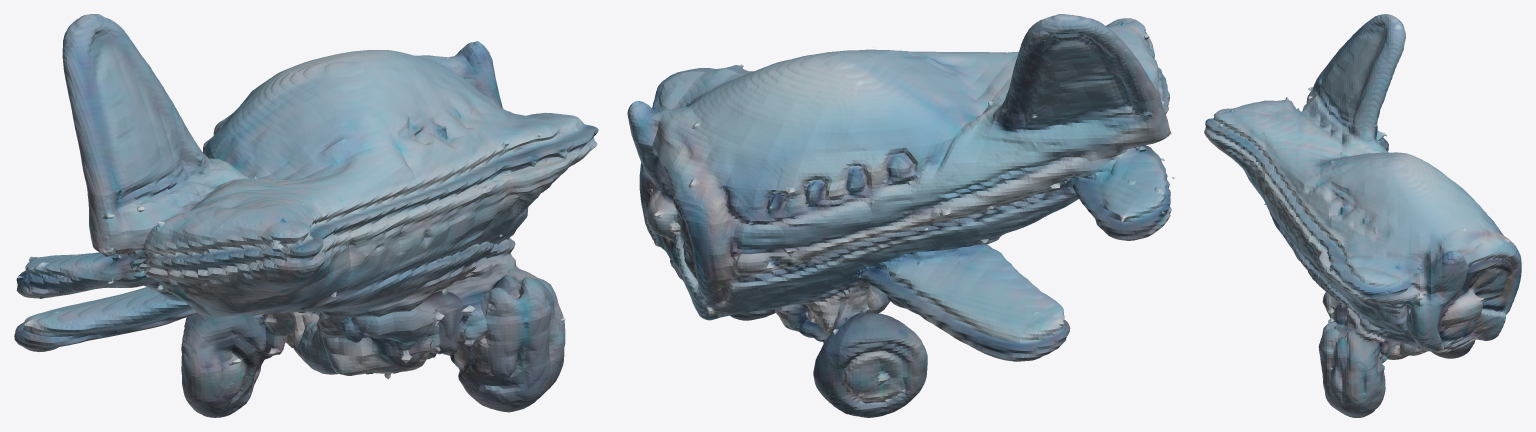
3 views of the same model, side by side, from view 1: azimuth 30°, elevation 25°; view 2: azimuth 150°, elevation 25°; view 3: azimuth 270°, elevation 25° (orthographic). The views are drawn at different scales.
Parts seen in each view (by area): view 1: world; view 2: world; view 3: world.
Part boxes in pixels (x1,y1,x2,y2): world: (14,14,598,417); world: (627,14,1174,417); world: (1204,14,1521,417).
Bounding box in the file's own units: 1 × 0.7747 × 0.7822.
